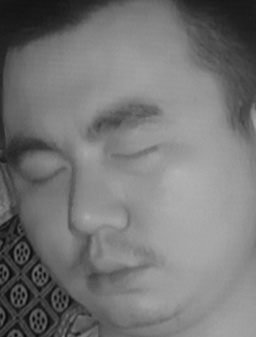blink: (108, 133, 166, 173), (23, 154, 69, 194)
mouth: (72, 244, 154, 301)
